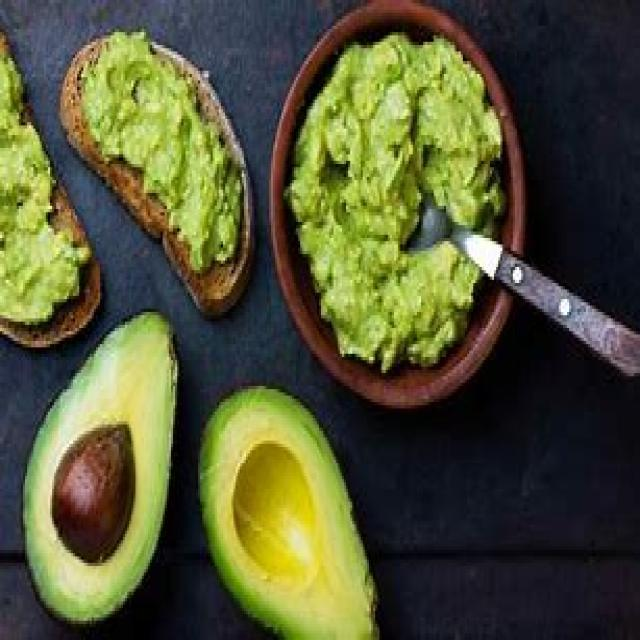avocado: (15, 306, 195, 627), (196, 392, 395, 640)
